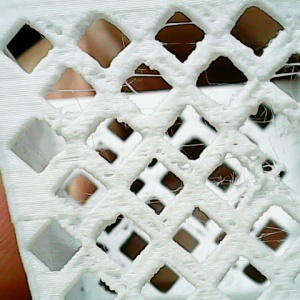3dpstringing: (207, 169, 255, 201), (46, 87, 100, 113), (258, 135, 288, 177), (124, 73, 168, 99), (140, 183, 184, 208), (250, 222, 292, 245), (66, 189, 107, 212), (250, 102, 281, 130), (266, 60, 299, 83), (171, 140, 214, 153), (157, 20, 200, 31), (157, 41, 206, 50), (226, 256, 251, 271), (89, 129, 98, 154)
3dpunderextrusion: (62, 214, 111, 267), (246, 154, 294, 186), (102, 266, 146, 297), (161, 154, 212, 180), (41, 16, 74, 41), (82, 60, 115, 83), (143, 215, 180, 235), (94, 163, 124, 183), (198, 8, 224, 31), (222, 212, 244, 237), (285, 12, 298, 49)
